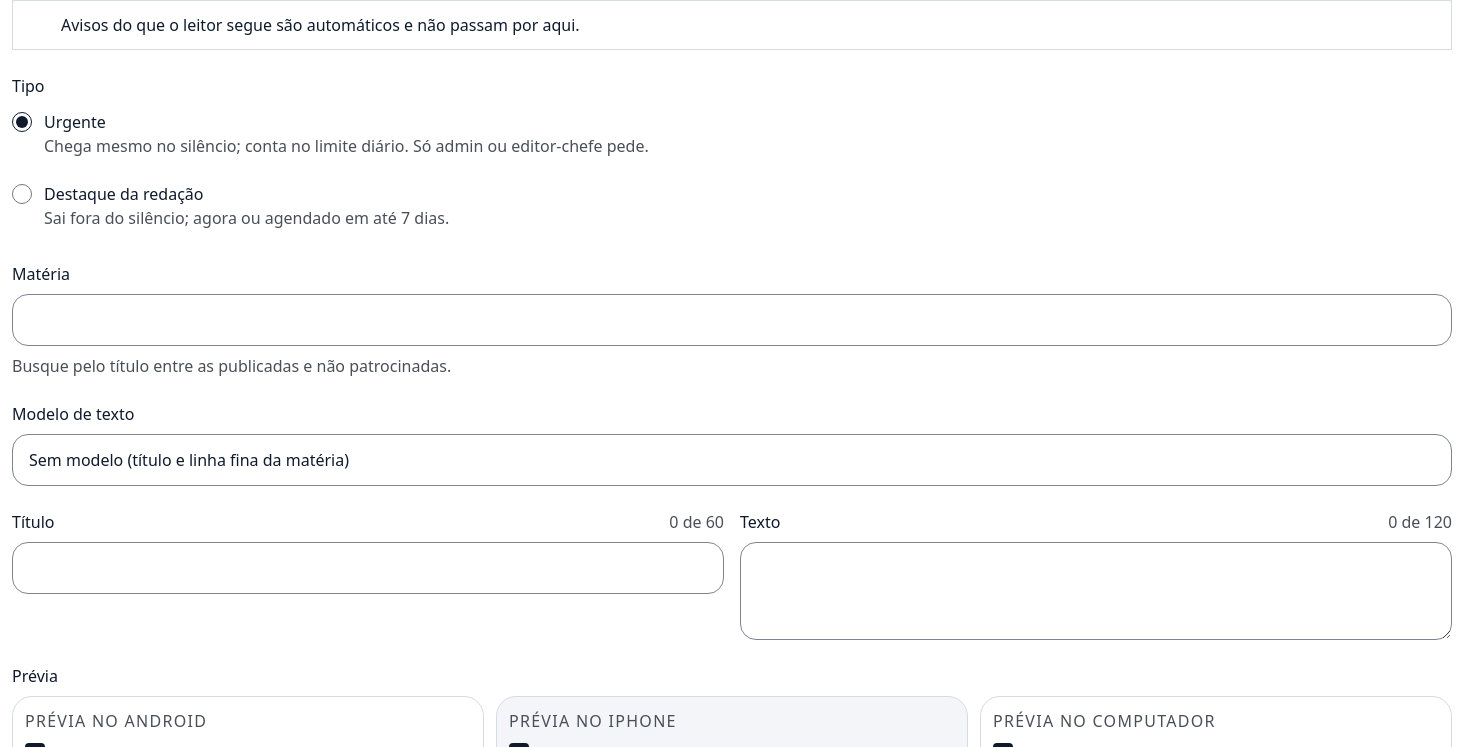
Test: NewPushForm (spec §10.2) › urgente não oferece Agendar; Destaque às 23h mostra o erro de silêncio
The image size is (1464, 747).
expect the radio button labelled "Urgente" is checked: met, box [12,112,32,132]
expect the radio button labelled "Agendar" is not shown: met
Click the radio button labelled "Destaque da redação". click: click(22, 194)
box: [12,184,32,204]
(page scrolled)
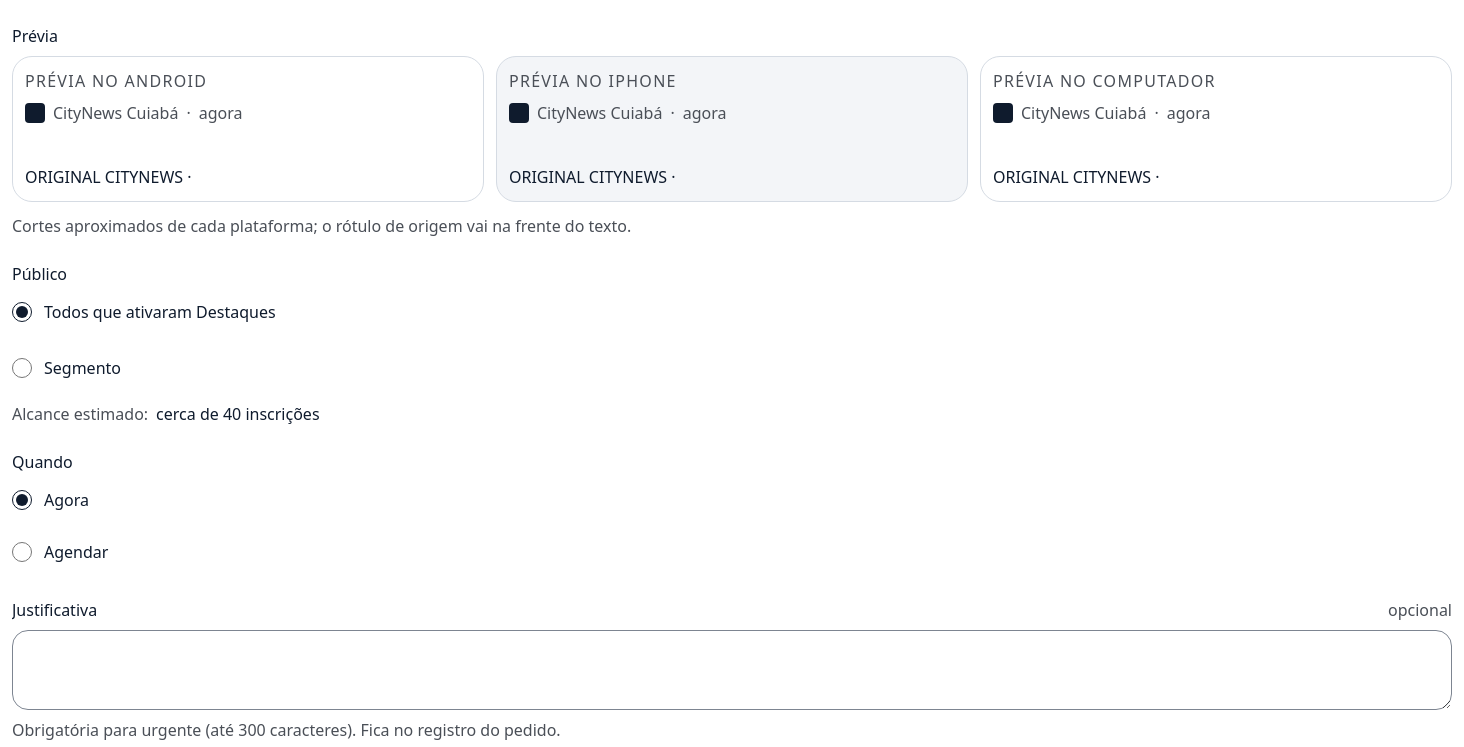
Click the radio button labelled "Agendar". click: click(22, 552)
box: [12,542,32,562]
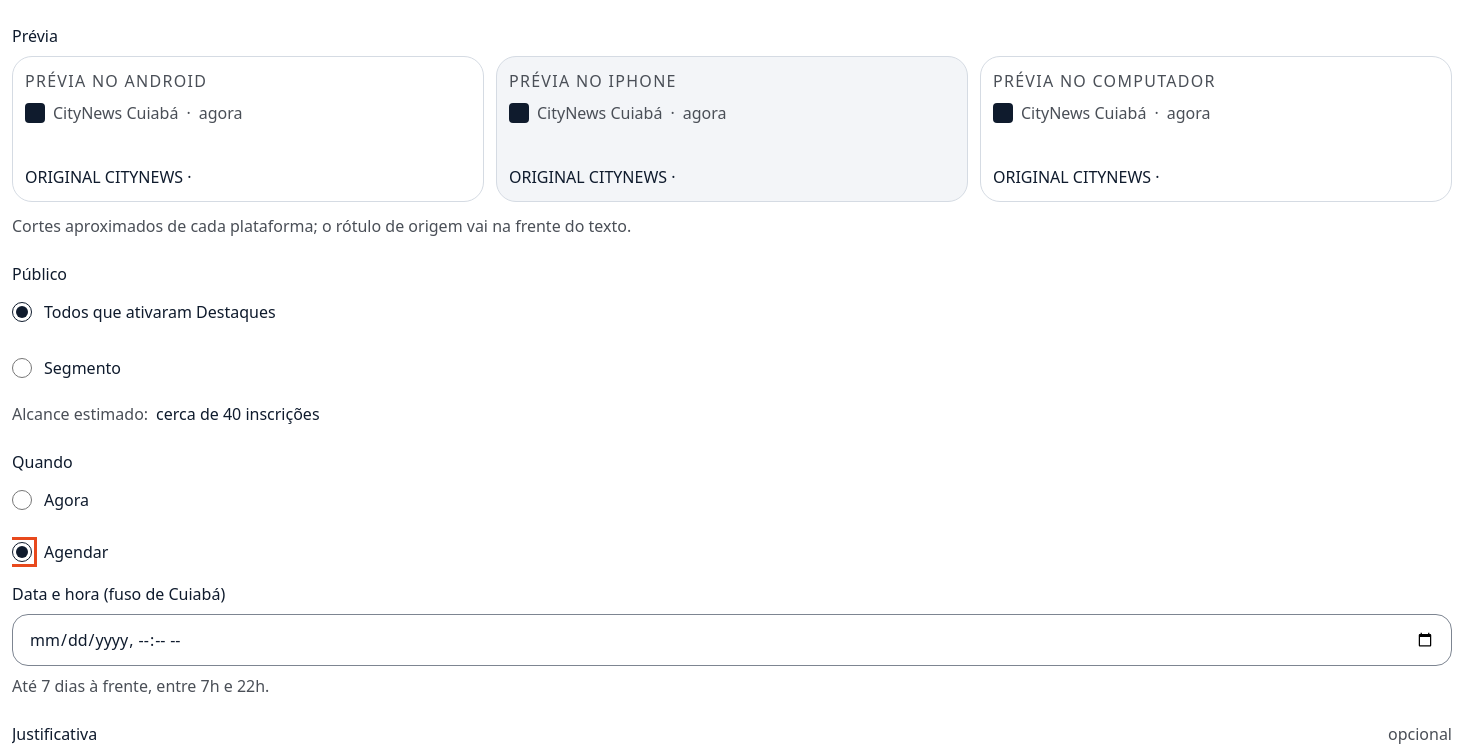
Type "2026-09-30T23:00" into the field labelled "Data e hora (fuso de Cuiabá)". click: (732, 640)
box: [12,614,1452,666]
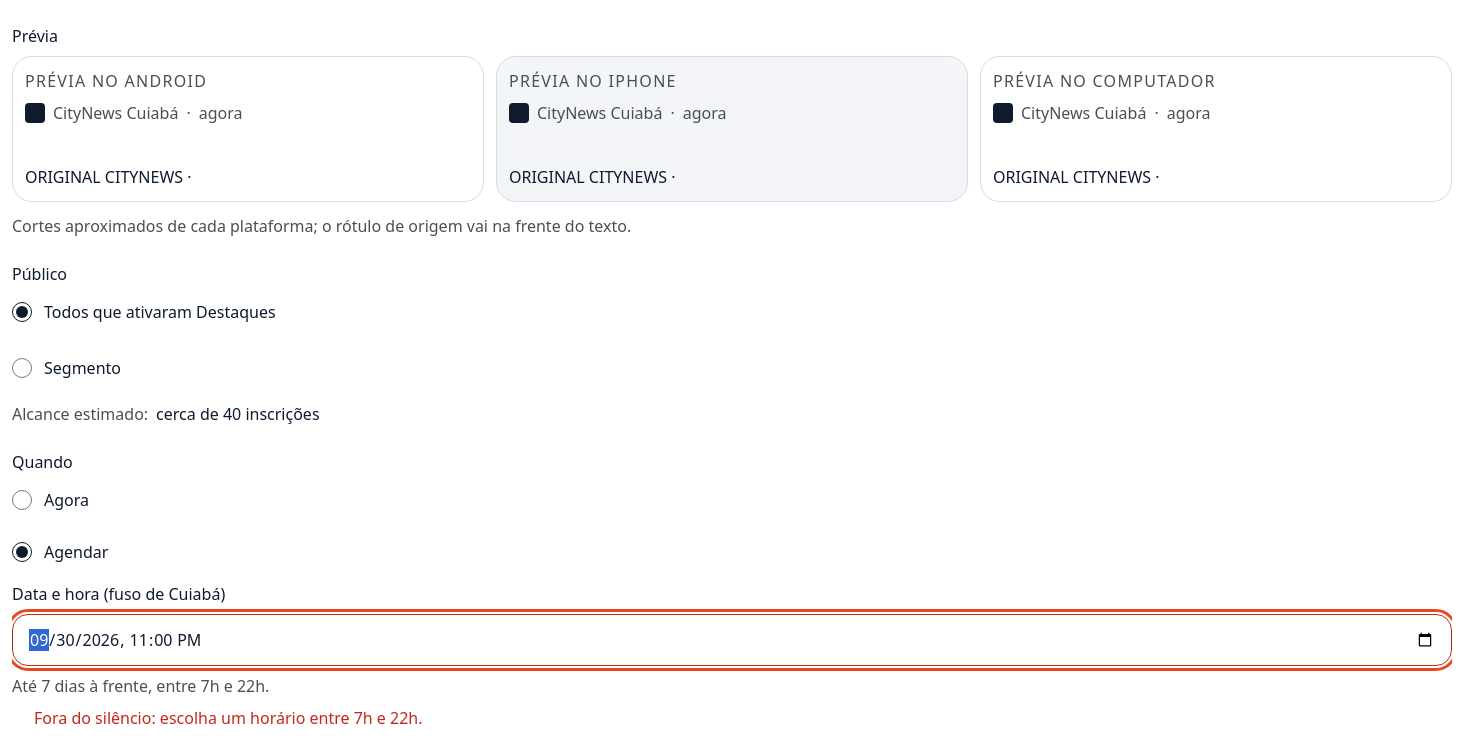
expect the text "Fora do silêncio: escolha um horário entre 7h e 22h." is shown: met, box [12,707,422,729]
Replace the text in the field labelled "Data e hora (fuso de Cuiabá)" with "2026-10-20T10:00". click: (732, 640)
box: [12,614,1452,666]
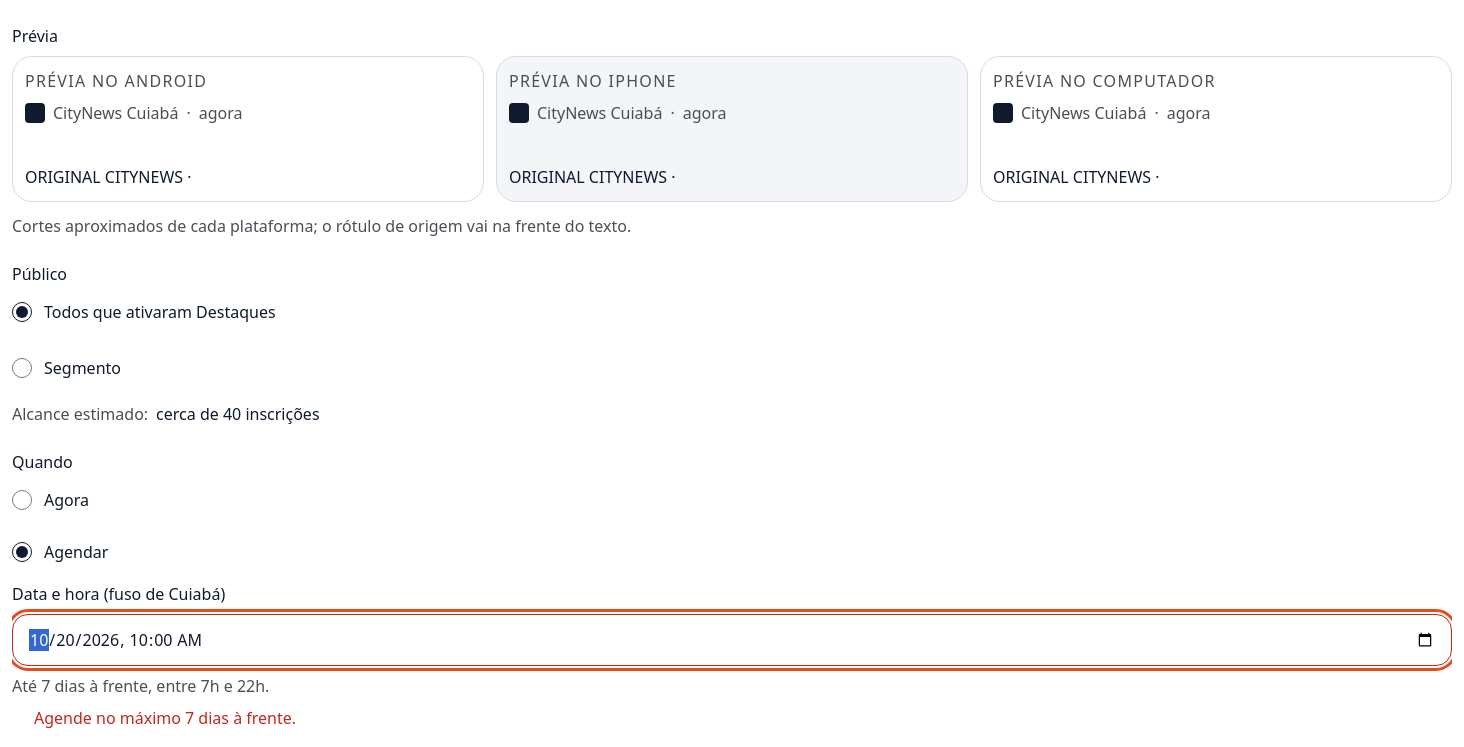
expect the text "Agende no máximo 7 dias à frente." is shown: met, box [12,707,296,729]
